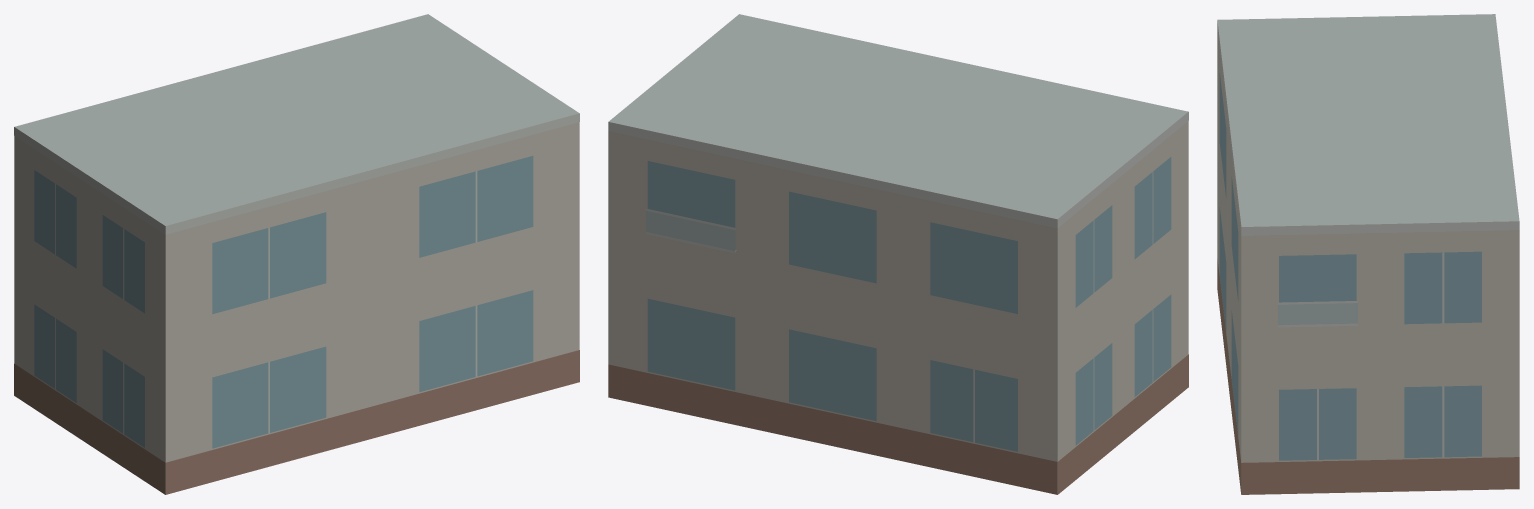
File: survey-upis-32926607.glb
3 renders of one model, left to right at view 1: azimuth 30°, elevation 25°; view 2: azimuth 150°, elevation 25°; view 3: azimuth 270°, elevation 25°, orthographic. The views are drawn at different scales.
Parts seen in each view (by area): view 1: survey-upis-32926607.tmp; view 2: survey-upis-32926607.tmp; view 3: survey-upis-32926607.tmp.
Part boxes in pixels (x1=…): survey-upis-32926607.tmp: x1=14, y1=14, x2=579, y2=494; survey-upis-32926607.tmp: x1=608, y1=14, x2=1188, y2=494; survey-upis-32926607.tmp: x1=1217, y1=14, x2=1519, y2=494.
Bounding box in the file's own units: 12.8 × 7.5 × 7.68.
